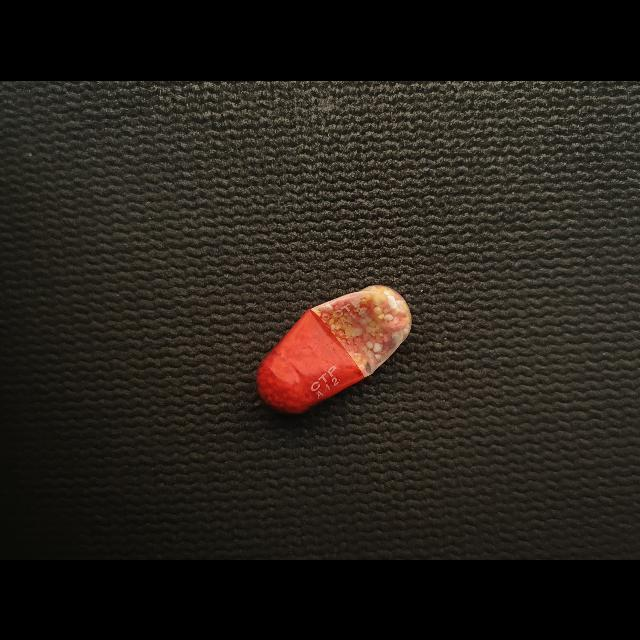Defective Capsule: (257, 284, 412, 413)
